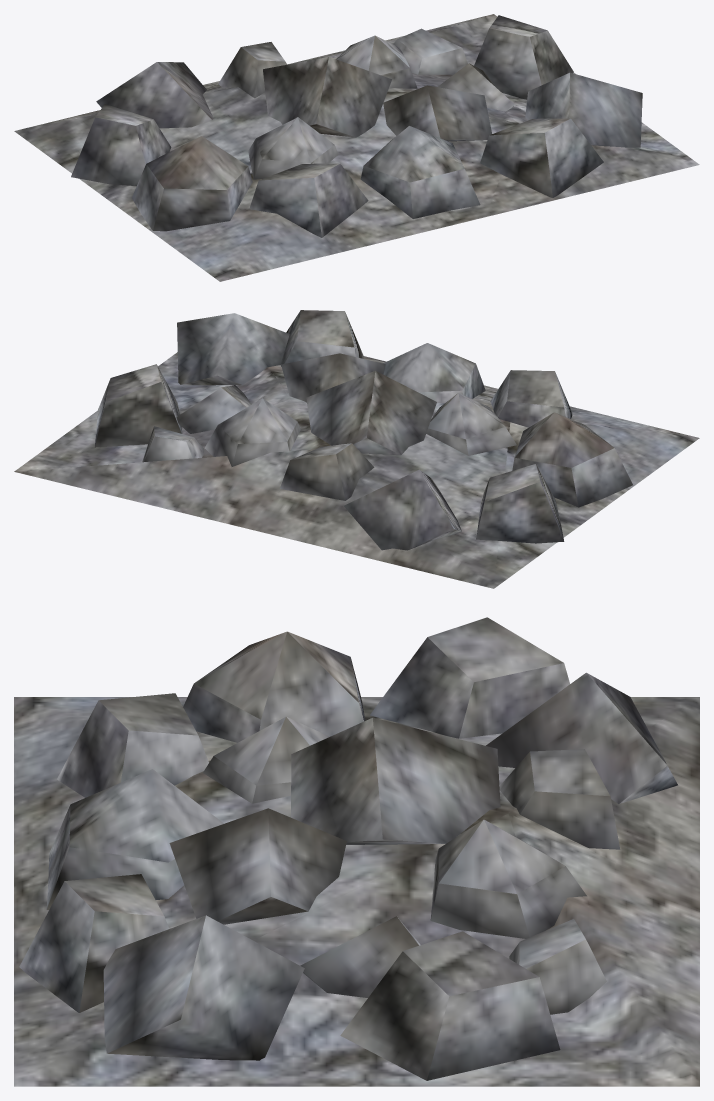
The model's file is gravel.glb.
3 views of the same model, one above another, from view 1: azimuth 30°, elevation 25°; view 2: azimuth 150°, elevation 25°; view 3: azimuth 270°, elevation 25° (orthographic). The views are drawn at different scales.
Parts seen in each view (by area): view 1: Gravel_R; view 2: Gravel_R; view 3: Gravel_R.
Part boxes in pixels (box(x1,y1,x2,y2)): Gravel_R: box(14, 14, 699, 281); Gravel_R: box(14, 310, 699, 588); Gravel_R: box(14, 617, 699, 1086).
Size of the model in its own units: 1.59 by 0.3025 by 1.16.
Materials: 1 (1 with a texture image).
